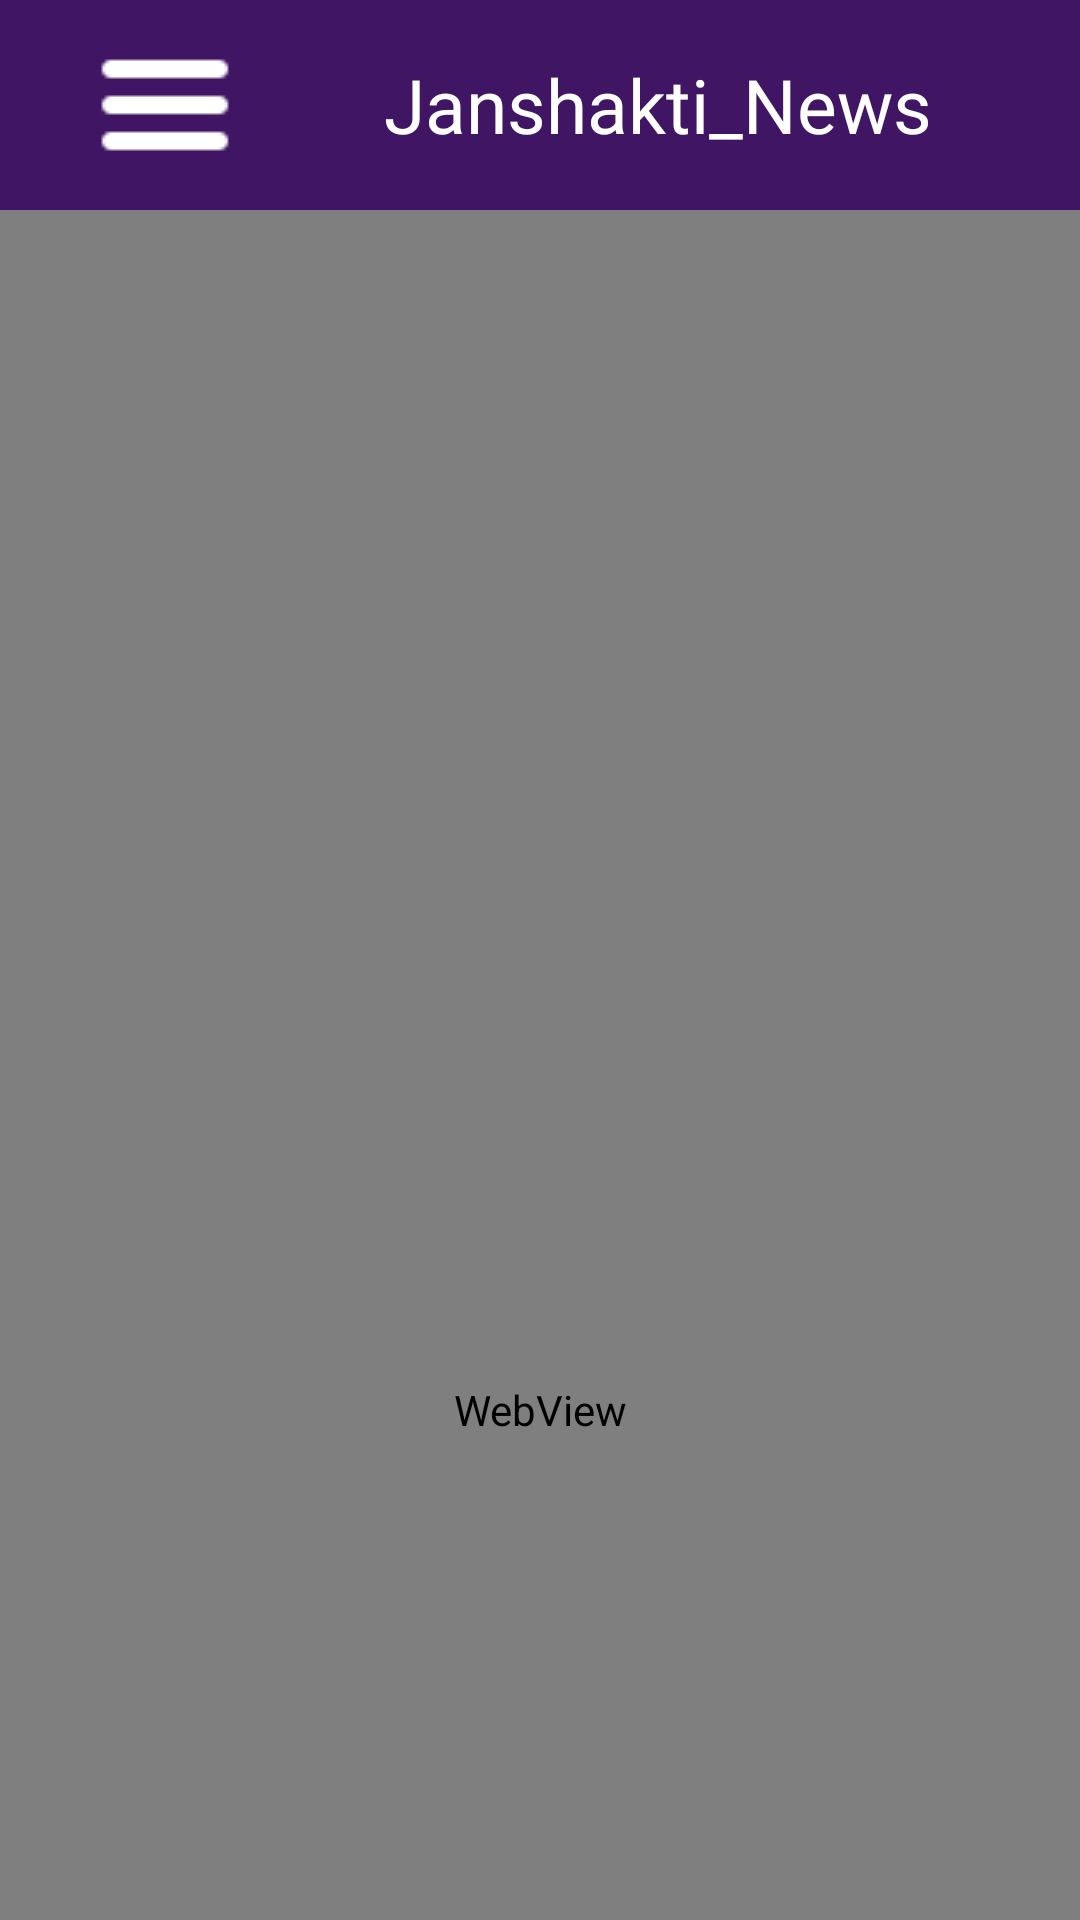

Named icons in this screenshot (1080x1920) and their centers, (x=x, y=y):
Navigation Bar Button: (x=165, y=105)
